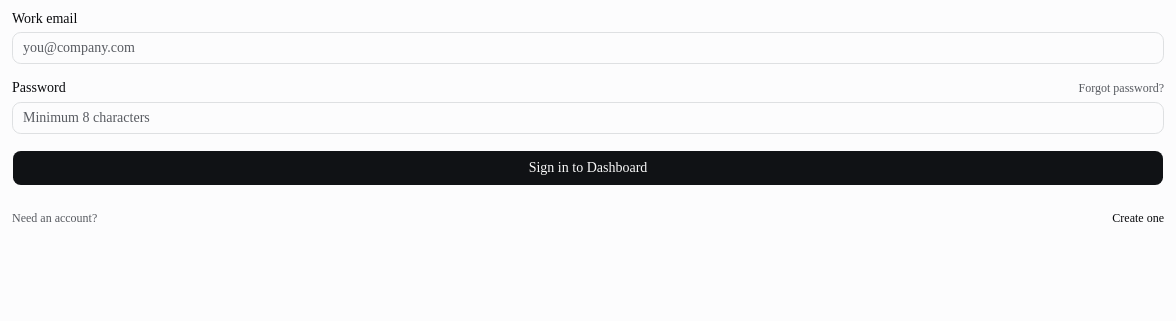
Scenario: AuthForm UI › shows resend verification shortcut when login returns EMAIL_NOT_CONFIRMED
Type "alex@example.com" into the field labelled "Work email" at (588, 48), box [12,32,1164,64]
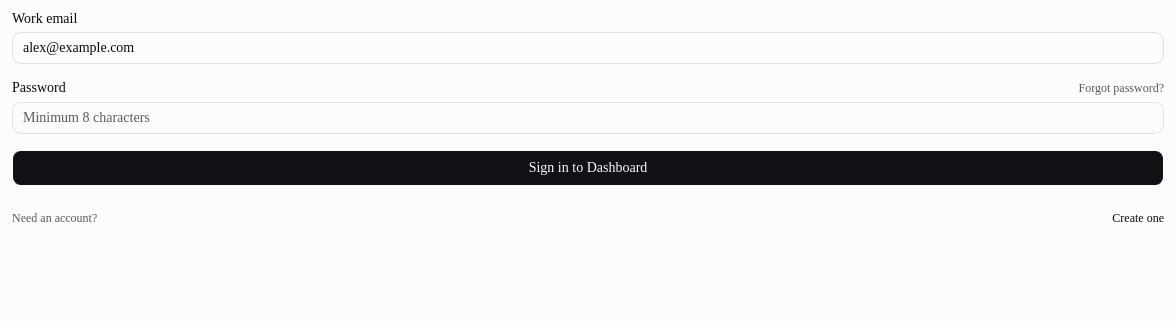
Type "Password123!" into the password field labelled "Password" at (588, 118), box [12,102,1164,134]
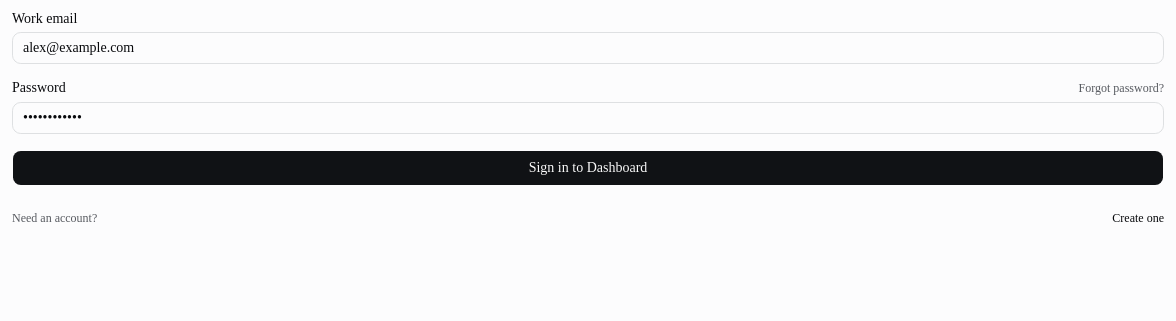
Click the button "Sign in to Dashboard" at (588, 168), box [12,150,1164,186]
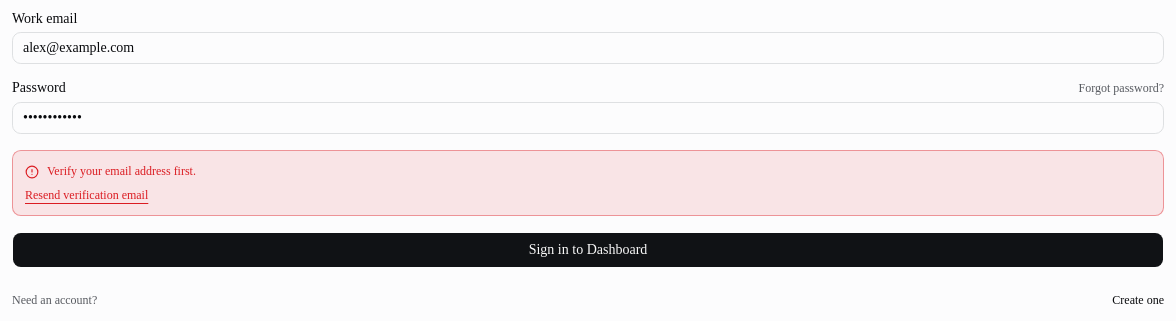
Check: the link "Resend verification email" is shown, box [25,188,148,202]
